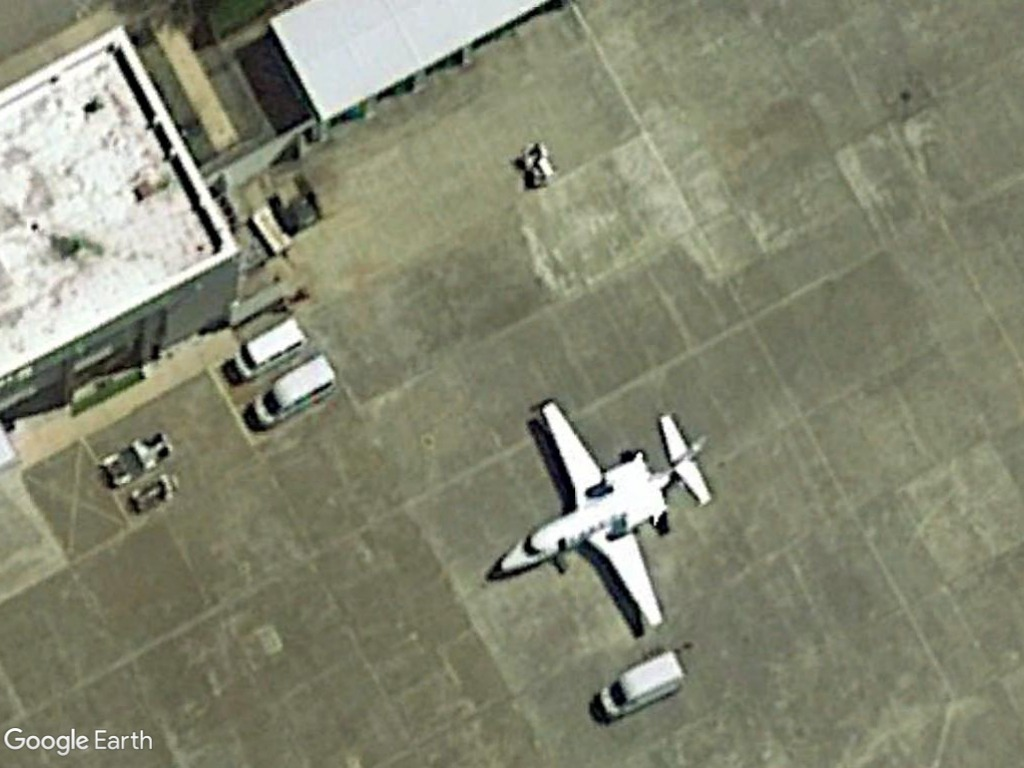chartered: (476, 395, 715, 635)
van: (592, 649, 693, 726), (248, 352, 342, 432), (224, 313, 306, 385)
